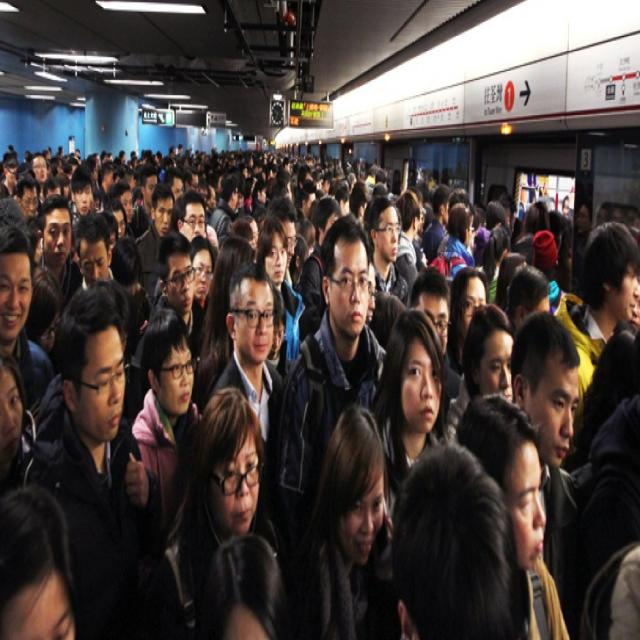body: (0, 438, 640, 640), (0, 137, 612, 264), (19, 284, 162, 640), (136, 384, 292, 640), (279, 210, 392, 556), (454, 391, 571, 639), (508, 308, 585, 640), (292, 402, 396, 640), (552, 219, 640, 472), (368, 306, 449, 522), (211, 258, 285, 487), (572, 392, 640, 636), (128, 308, 206, 516), (132, 229, 205, 425), (191, 234, 258, 421), (560, 324, 639, 475), (0, 219, 57, 419), (443, 302, 515, 444), (407, 265, 461, 412), (256, 212, 306, 364), (612, 183, 640, 440), (299, 195, 343, 342), (0, 348, 40, 491), (36, 192, 85, 308), (110, 236, 153, 367), (63, 212, 115, 320), (364, 194, 412, 310), (133, 181, 177, 300), (445, 265, 490, 377), (426, 199, 478, 288), (528, 226, 568, 318), (504, 262, 551, 334), (27, 267, 63, 353), (266, 195, 298, 289), (475, 224, 510, 306), (393, 190, 421, 292), (419, 182, 451, 268), (189, 234, 217, 314), (280, 229, 299, 287), (366, 257, 378, 332)
